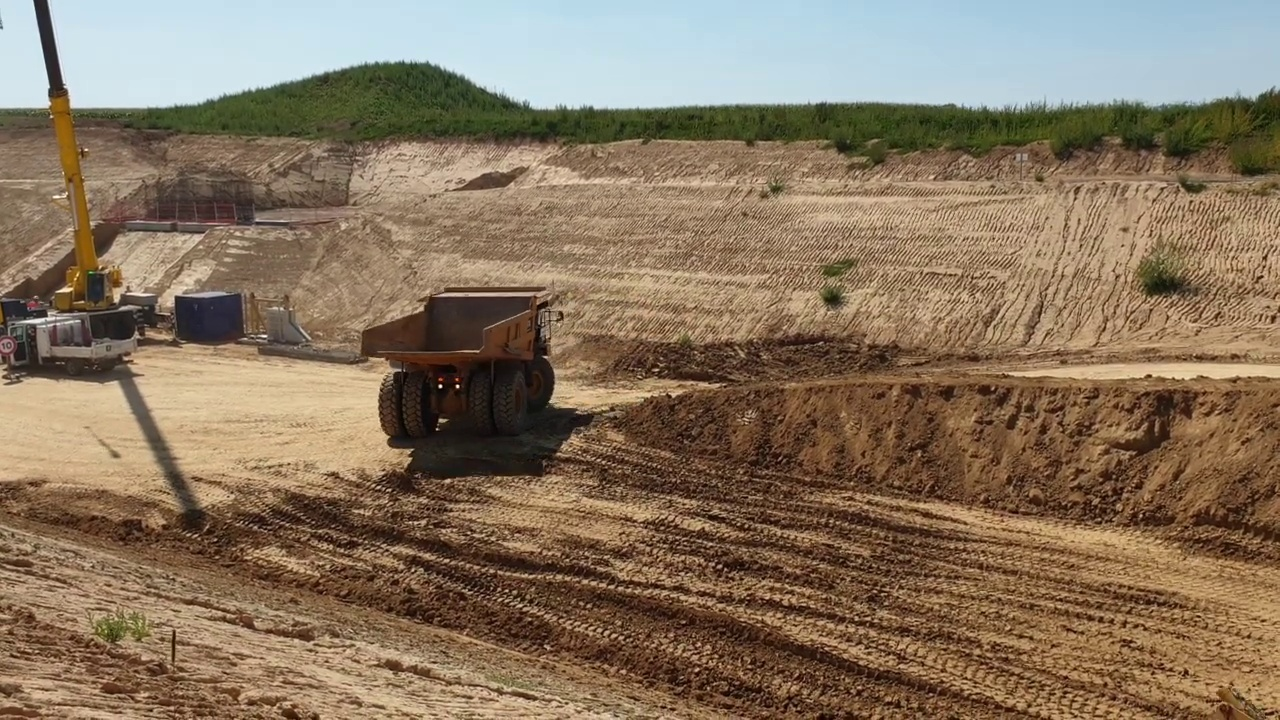crane: (3, 1, 143, 382)
truck: (356, 278, 568, 445)
